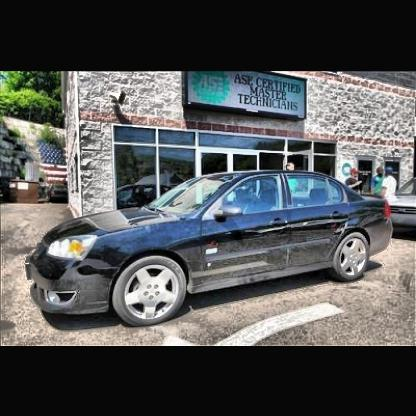Chevrolet Malibu Sedan 2007: (25, 152, 399, 335)
